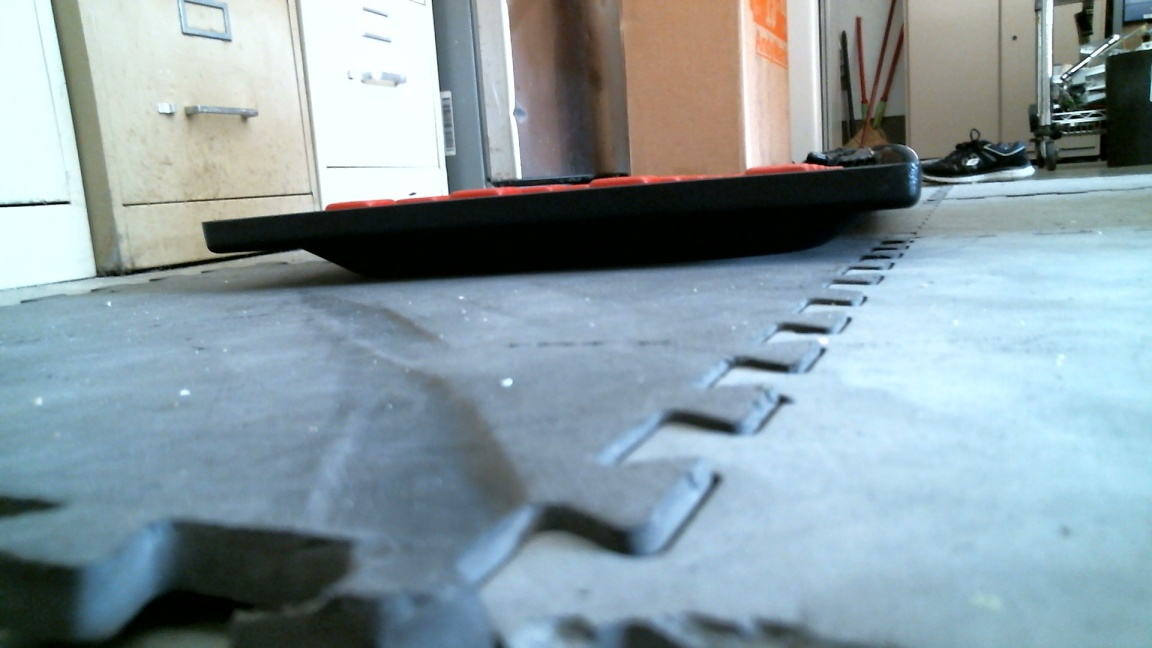red_foundation: (199, 162, 919, 276)
